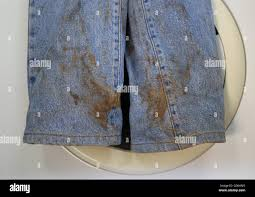earth: (89, 83, 119, 125), (144, 80, 172, 121)
